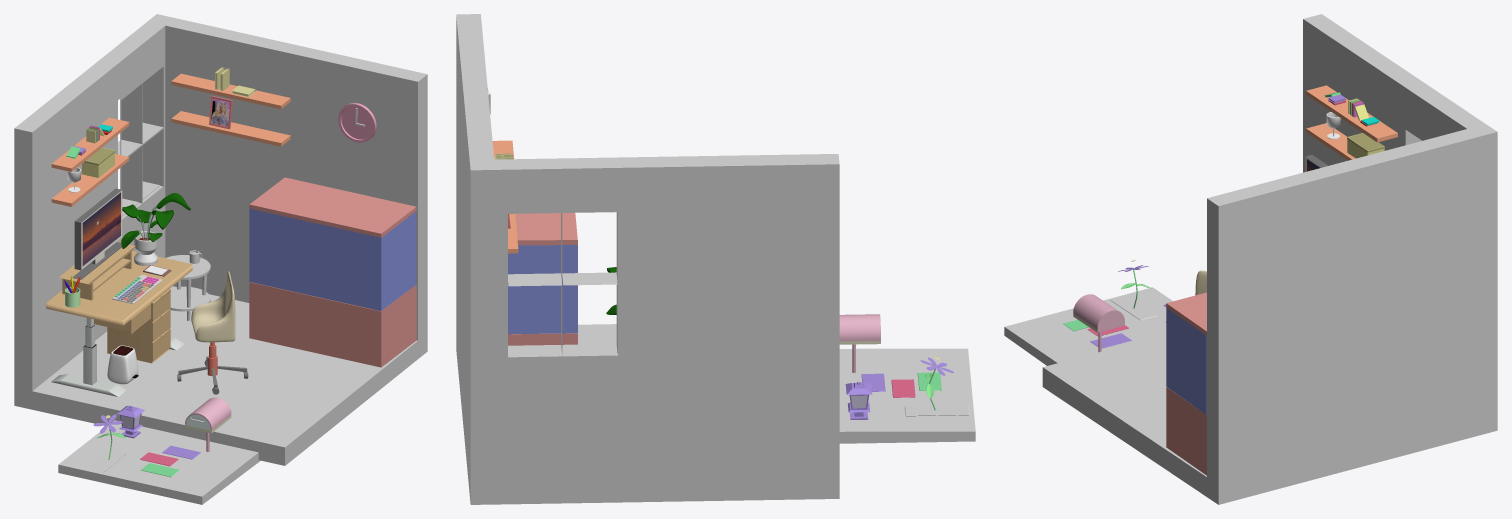
File: Final Room.glb
3 views of the same model, side by side, from view 1: azimuth 30°, elevation 25°; view 2: azimuth 150°, elevation 25°; view 3: azimuth 270°, elevation 25° (orthographic). The views are drawn at different scales.
Visible parts, largest first — view 1: Cube, Cube.002, Cube.003, Cube.021, Plane, Table top, chair seat, computer.001, Cylinder.005, computer table, shelf1.001, computer (+16 smaller); view 2: Cube, Cube.021, Cube.003, Cube.002, Plane, Cylinder.013, Plane.006, Plane.003; view 3: Cube, Cube.021, Cube.002, Cube.003, Cylinder.013, shelf2, shelf1, shelf3.
Part boxes in pixels (x1,y1,x2,y2): Cube: (14, 14, 427, 465); Cube.002: (249, 177, 416, 367); Cube.003: (249, 208, 416, 310); Cube.021: (58, 420, 260, 504); Plane: (118, 62, 164, 222); Table top: (46, 251, 192, 325); chair seat: (191, 271, 235, 342); computer.001: (82, 192, 120, 265); Cylinder.005: (165, 255, 210, 320); computer table: (59, 242, 135, 300); shelf1.001: (171, 111, 290, 146); computer: (72, 188, 122, 279); Cube: (456, 14, 839, 504); Cube.021: (839, 348, 975, 443); Cube.003: (508, 245, 577, 334); Cube.002: (508, 213, 577, 345); Plane: (508, 212, 617, 354); Cylinder.013: (839, 314, 880, 372); Plane.006: (904, 405, 969, 416); Plane.003: (845, 382, 872, 419); Cube: (1042, 14, 1497, 504); Cube.021: (1004, 287, 1172, 365); Cube.002: (1166, 292, 1206, 475); Cube.003: (1166, 308, 1206, 414); Cylinder.013: (1073, 294, 1124, 352); shelf2: (1306, 85, 1397, 142); shelf1: (1306, 123, 1355, 160); shelf3: (1347, 133, 1384, 158).
Bounding box in the file's own units: 30.12 × 20.13 × 29.85.
Materials: 55 (2 with a texture image).
